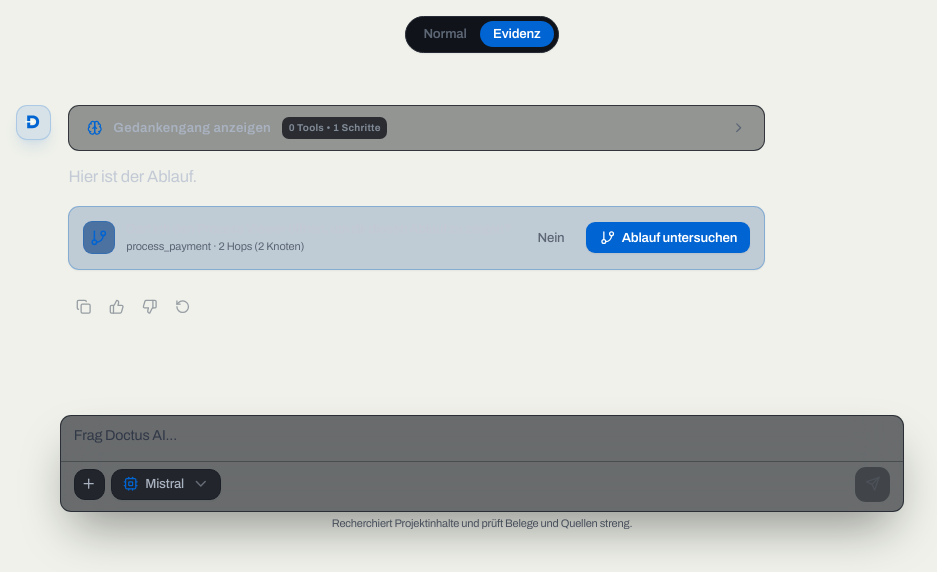
Test: ChatView › Call-Graph-Aufforderungskarte › blendet die Karte aus, wenn der Nutzer auf "Nein" klickt
Expected: the element with test id "callgraph-prompt-card" is shown, [68, 206, 765, 270]
Step 1. Click the button "Nein" → (551, 238), box [524, 222, 578, 253]
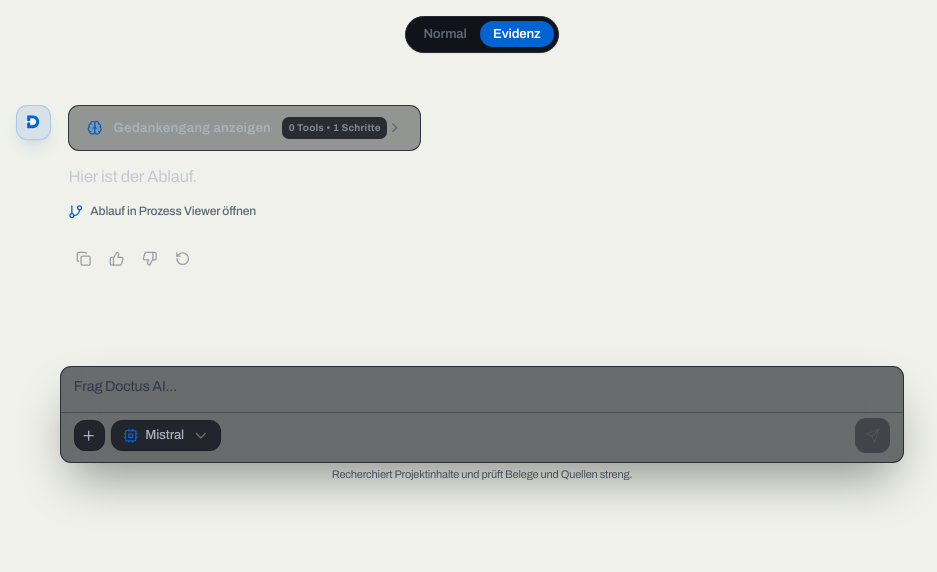
Expected: the text "Ablauf in Prozess Viewer öffnen" is shown, [90, 202, 256, 221]
